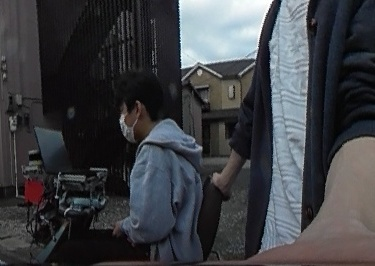person: (97, 71, 204, 266)
